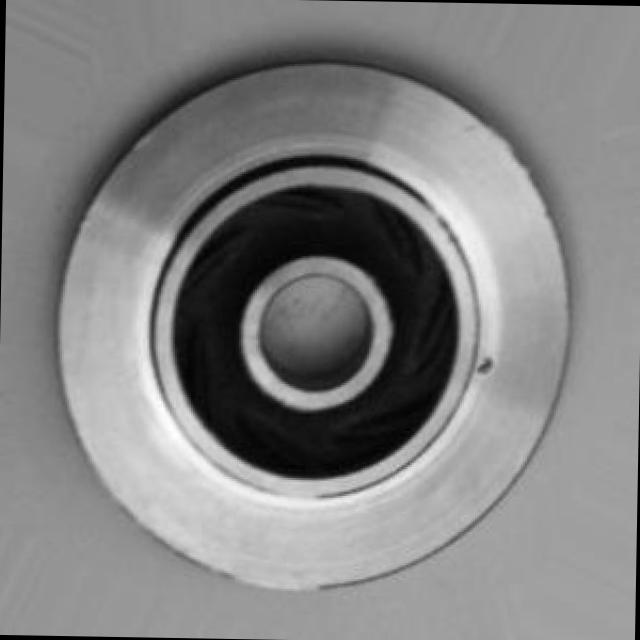Defect: (473, 348, 500, 383)
